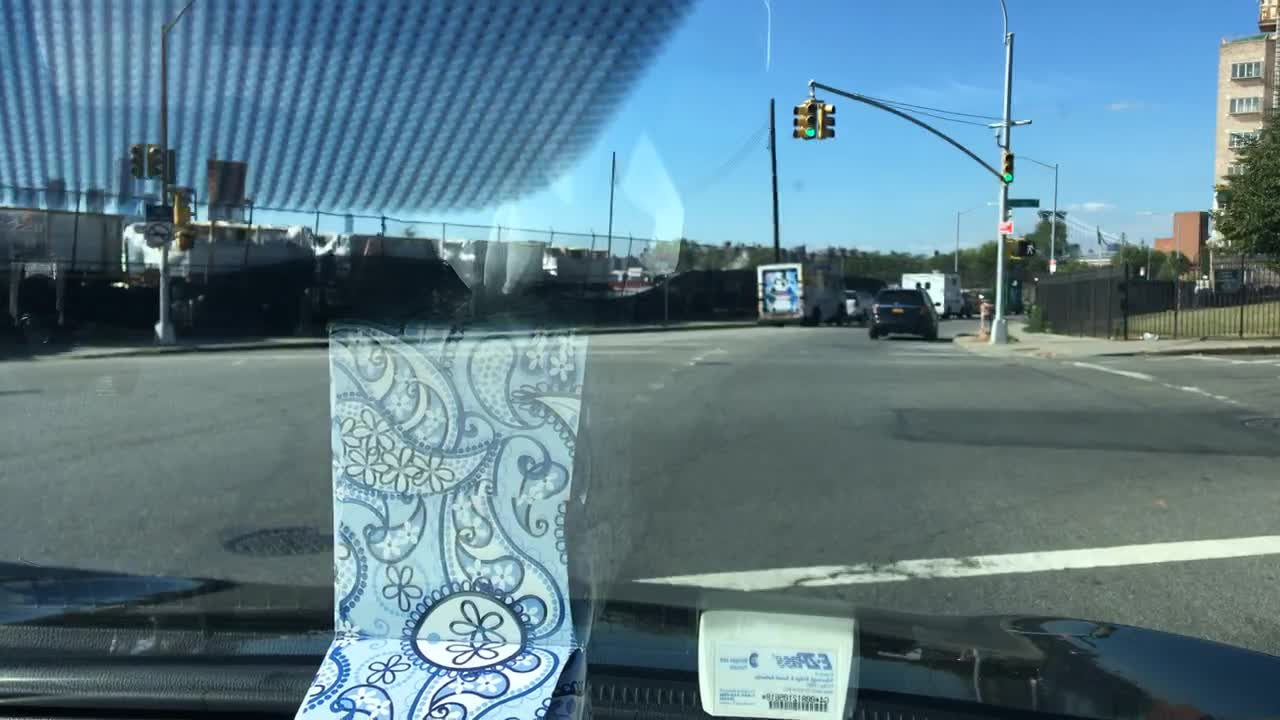car: (754, 257, 848, 330), (869, 285, 941, 341), (899, 264, 966, 321), (843, 286, 877, 327), (961, 288, 995, 316)
traffic light: (147, 144, 167, 179), (172, 195, 193, 225), (820, 100, 837, 137), (128, 141, 144, 178), (803, 102, 818, 141), (1002, 150, 1014, 185), (789, 104, 800, 140), (1018, 239, 1036, 258), (177, 233, 194, 253)
traffic sign: (143, 201, 174, 246), (166, 146, 177, 187), (1007, 197, 1040, 210), (998, 223, 1014, 236)
